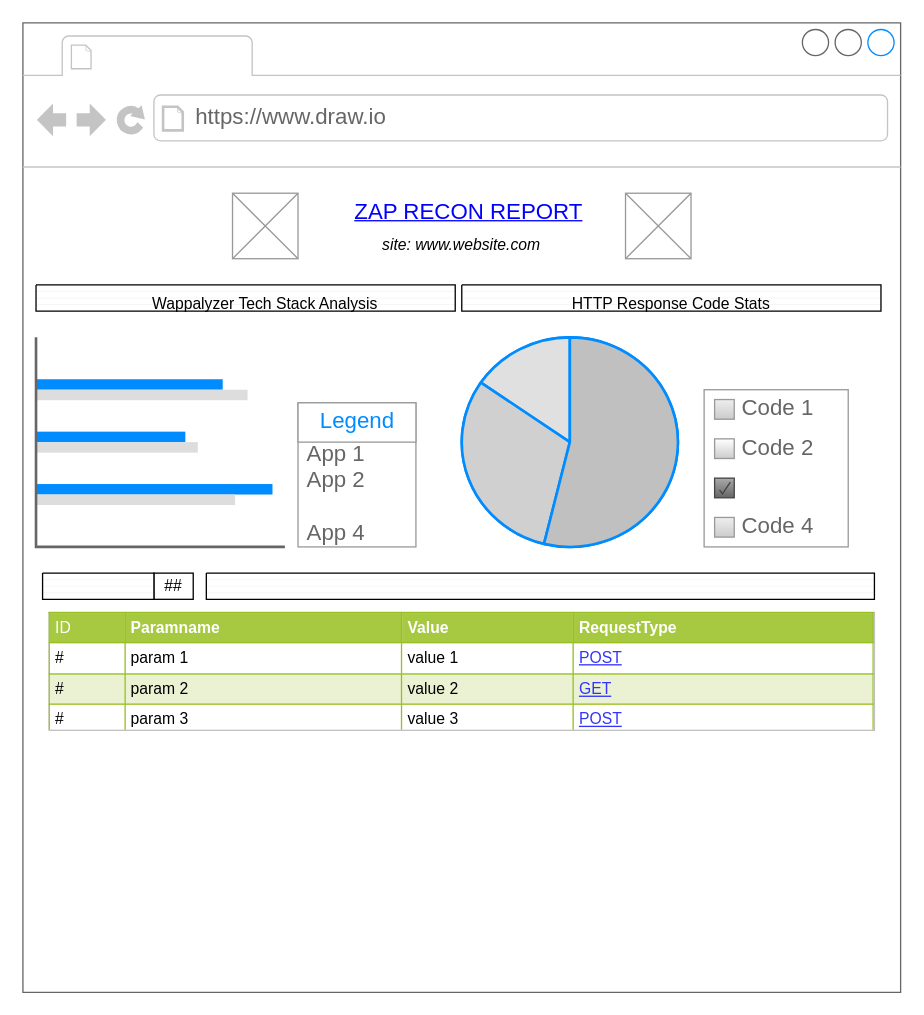
Some shapes in this 924 by 1015 pixel diagram are drawn without their labels. Each missing label, with the centre of its shape:
"App 3" goes at [356,503].
"Application Entry Points" goes at [539,585].
"Code 3" goes at [723,487].
"No. of Forms:" goes at [97,585].
"Page 1" goes at [173,55].
